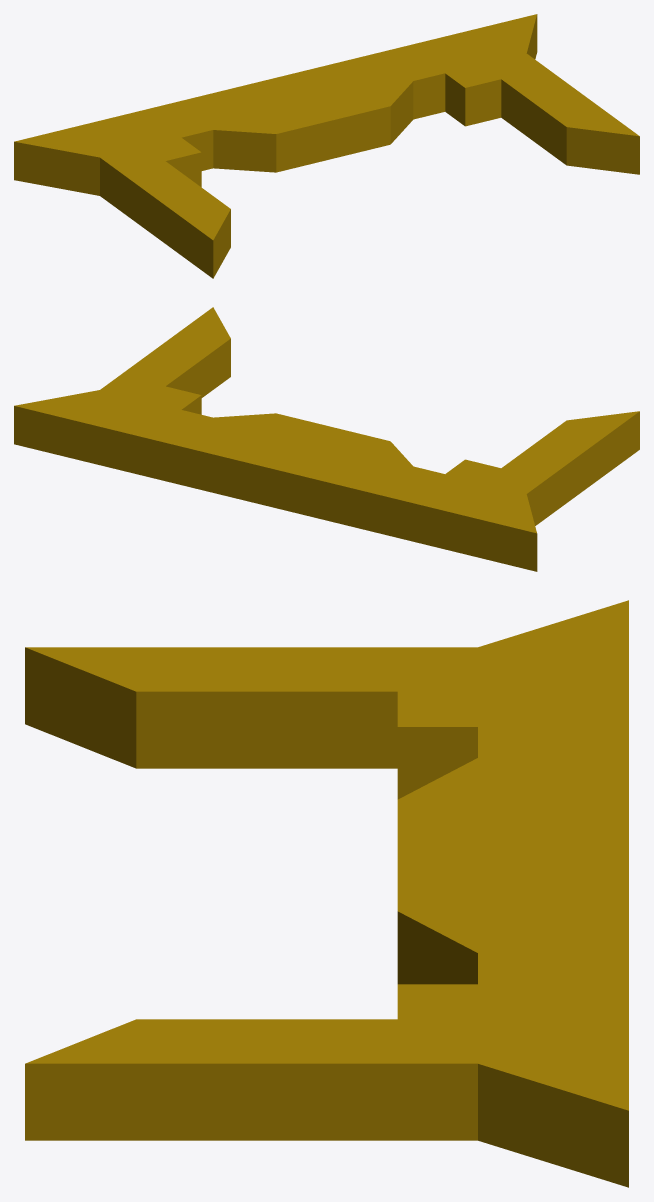
Rendered from borde.fbx.
3 views of the same model, one above another, from view 1: azimuth 30°, elevation 25°; view 2: azimuth 150°, elevation 25°; view 3: azimuth 270°, elevation 25° (orthographic). The views are drawn at different scales.
Visible parts, largest first — view 1: bridge_borders; view 2: bridge_borders; view 3: bridge_borders.
Boxes of the visible parts, bbox=[...] form: bridge_borders: bbox=[14, 14, 639, 278]; bridge_borders: bbox=[14, 307, 639, 571]; bridge_borders: bbox=[25, 600, 628, 1187].
Size of the model in its own units: 674 by 47.4 by 337.
